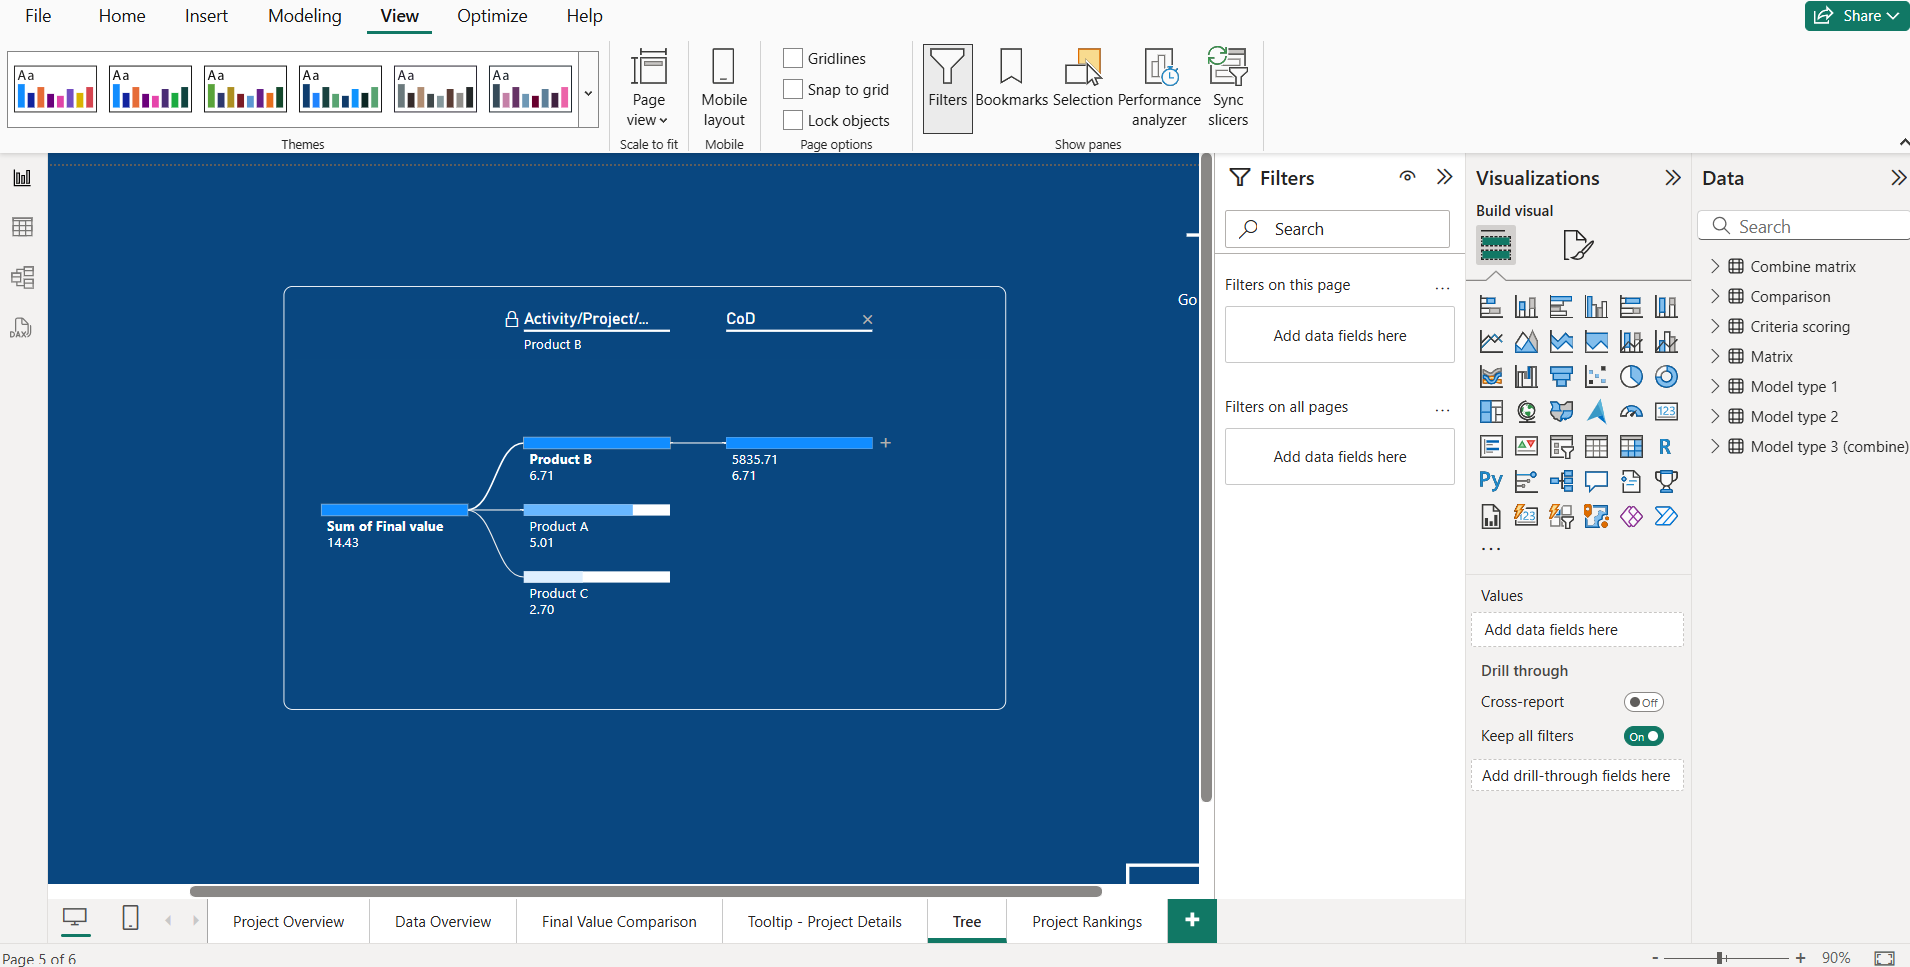

Layout of this report page (visuals, bound fields, positions):
{"tool":"powerbi","page":{"name":"Tree","canvas":[1280,720],"ordinal":4},"visuals":[{"type":"decompositionTreeVisual","fields":{"Analyze":["Sum(Combine matrix.Final value)"],"ExplainBy":["Combine matrix.Activity/Project/Product","Combine matrix.CoD","Combine matrix.Criteria value"]},"box":[357.8,106.7,642.2,376.7],"z":0},{"type":"actionButton","box":[1148.5,0,131.7,130.4],"z":1000},{"type":"actionButton","box":[0,0,134.5,133.1],"z":1001},{"type":"actionButton","box":[1107.1,619.8,172.9,100.2],"z":1002}]}

Visuals, with their boxes on the page's 1280x720 design canvas (x1, y1, x2, y2). These are canvas units, not pixel positions in the 1910x967 screenshot, which may show the page scaled, cropped or inside an application window:
decompositionTreeVisual - Sum(Combine matrix.Final value) x Combine matrix.Activity/Project/Product: pyautogui.locateOnScreen(358, 107, 1000, 483)
actionButton: pyautogui.locateOnScreen(1148, 0, 1280, 130)
actionButton: pyautogui.locateOnScreen(0, 0, 134, 133)
actionButton: pyautogui.locateOnScreen(1107, 620, 1280, 720)
